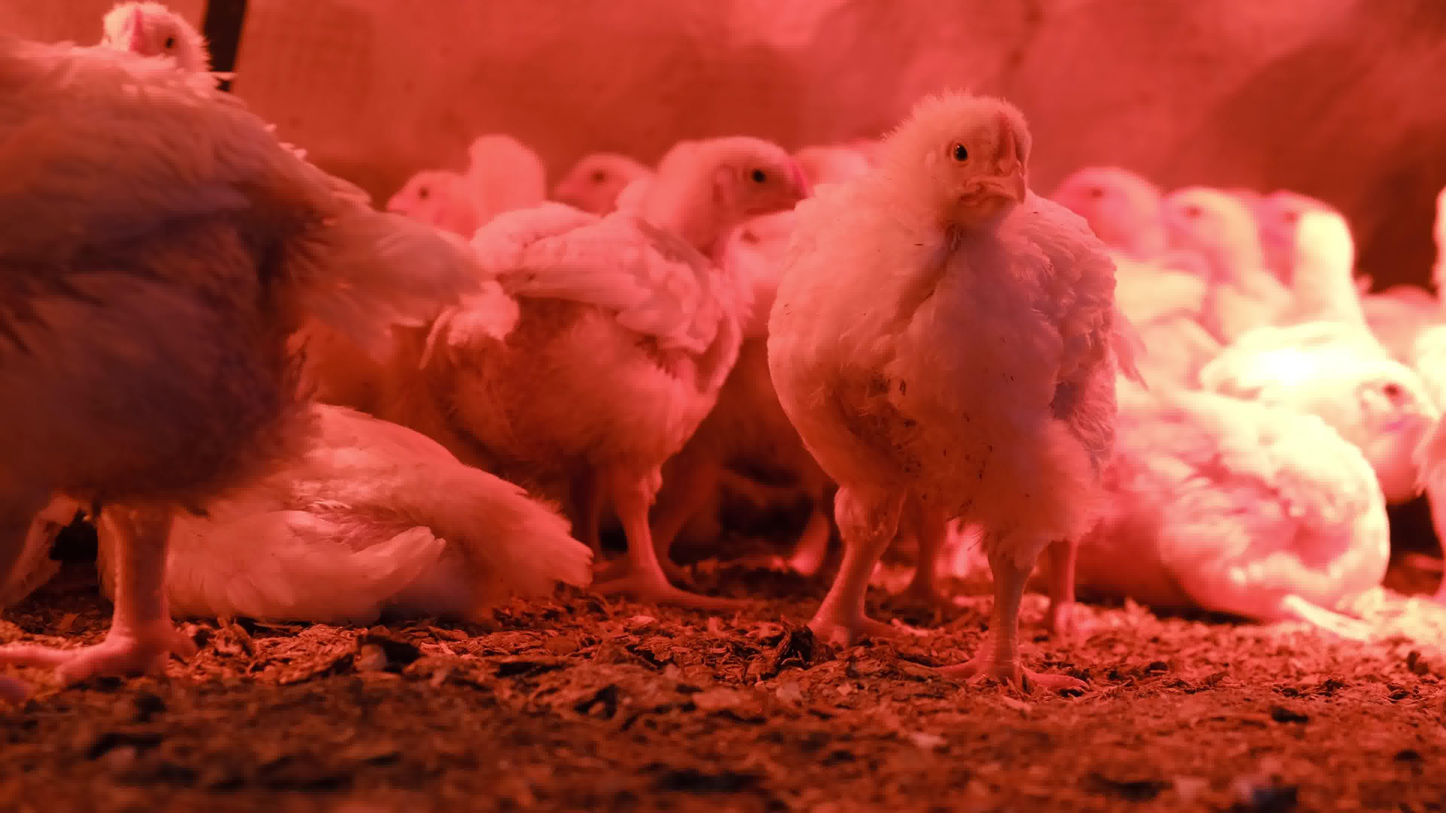AbNormal: (106, 399, 597, 618), (1055, 367, 1441, 617)
Normal: (0, 32, 487, 684), (769, 87, 1141, 699), (445, 134, 814, 611), (1053, 168, 1165, 368), (1277, 214, 1368, 402), (1170, 189, 1262, 339), (95, 4, 215, 103), (469, 130, 554, 246), (383, 162, 471, 250), (554, 143, 656, 207), (1263, 192, 1328, 220)
